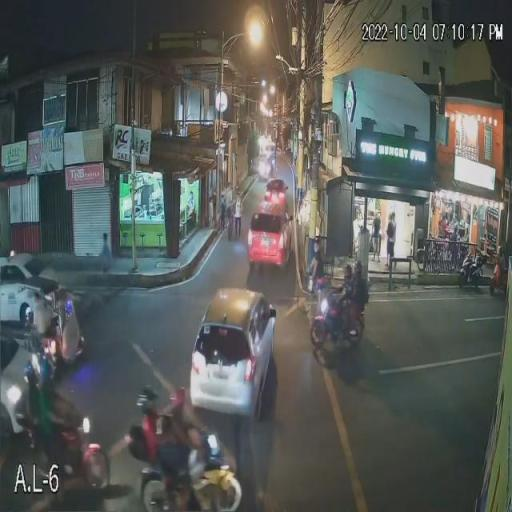helmet: (161, 386, 199, 416), (30, 356, 61, 392), (126, 382, 162, 412), (350, 258, 368, 280), (339, 260, 353, 282)
motorcycle: (14, 393, 111, 492), (138, 428, 242, 510), (306, 290, 367, 352)
rider: (152, 413, 208, 512), (35, 381, 85, 474), (140, 415, 182, 479), (326, 280, 354, 349), (348, 275, 373, 338)
